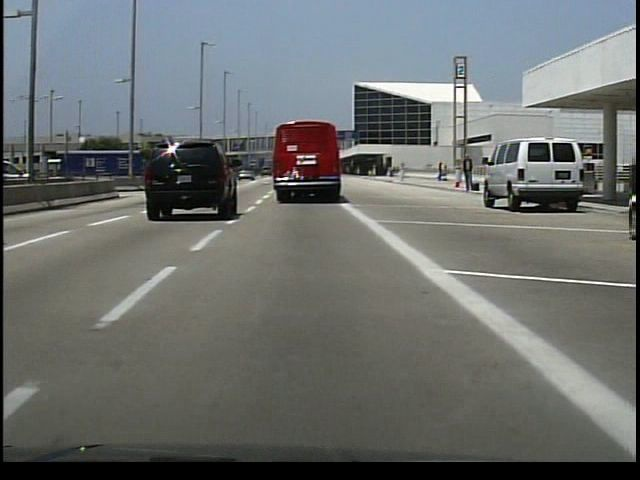person: (461, 153, 475, 197)
